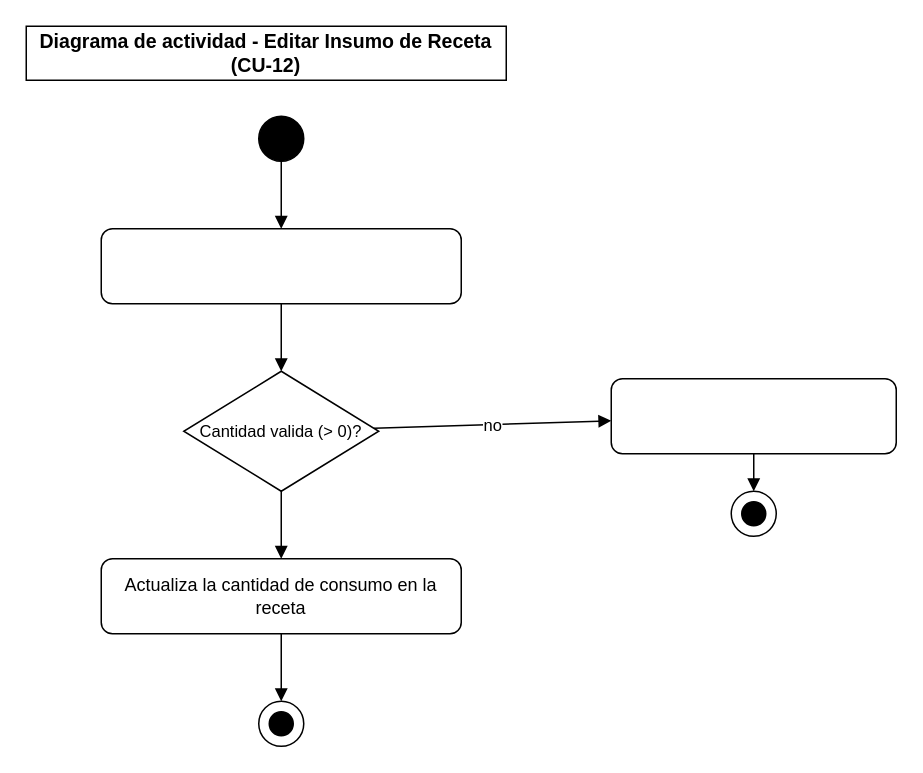
The diagram is 923 pixels wide and 773 high, and some of its shapes have lost their labels. Each missing label, with the box of its shape:
Cambia la cantidad en la fila del insumo y pulsa "Guardar": (100, 227, 461, 304)
Muestra error: (610, 377, 896, 454)
